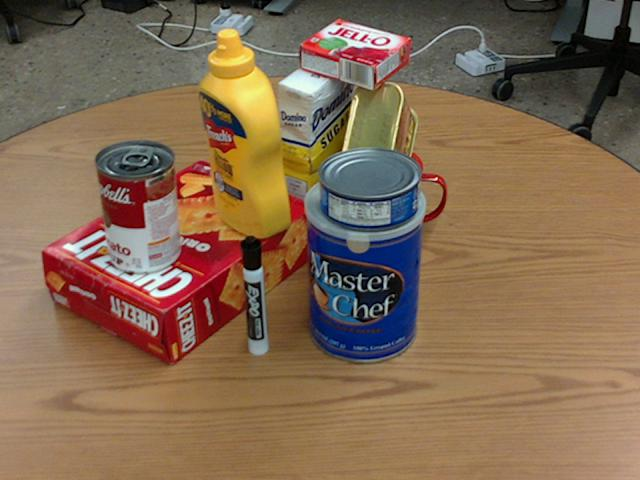cracker_box: (44, 163, 316, 365)
gelatin_box: (297, 20, 409, 89)
large_marker: (241, 236, 268, 355)
master_chef_can: (302, 168, 423, 361)
mug: (336, 142, 448, 247)
mustard_bottle: (197, 29, 289, 237)
potted_meat_can: (340, 81, 415, 198)
sugar_box: (278, 51, 355, 239)
tomato_soup_can: (94, 139, 180, 273)
tuna_fish_can: (317, 146, 420, 229)
